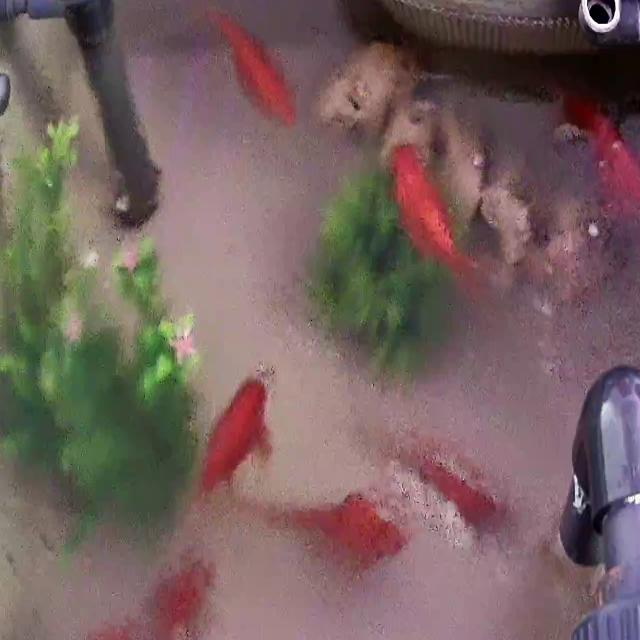fish: (391, 142, 481, 297), (557, 90, 640, 224), (209, 3, 295, 122), (195, 373, 272, 503), (282, 493, 392, 573), (412, 451, 499, 531), (149, 553, 215, 640)
